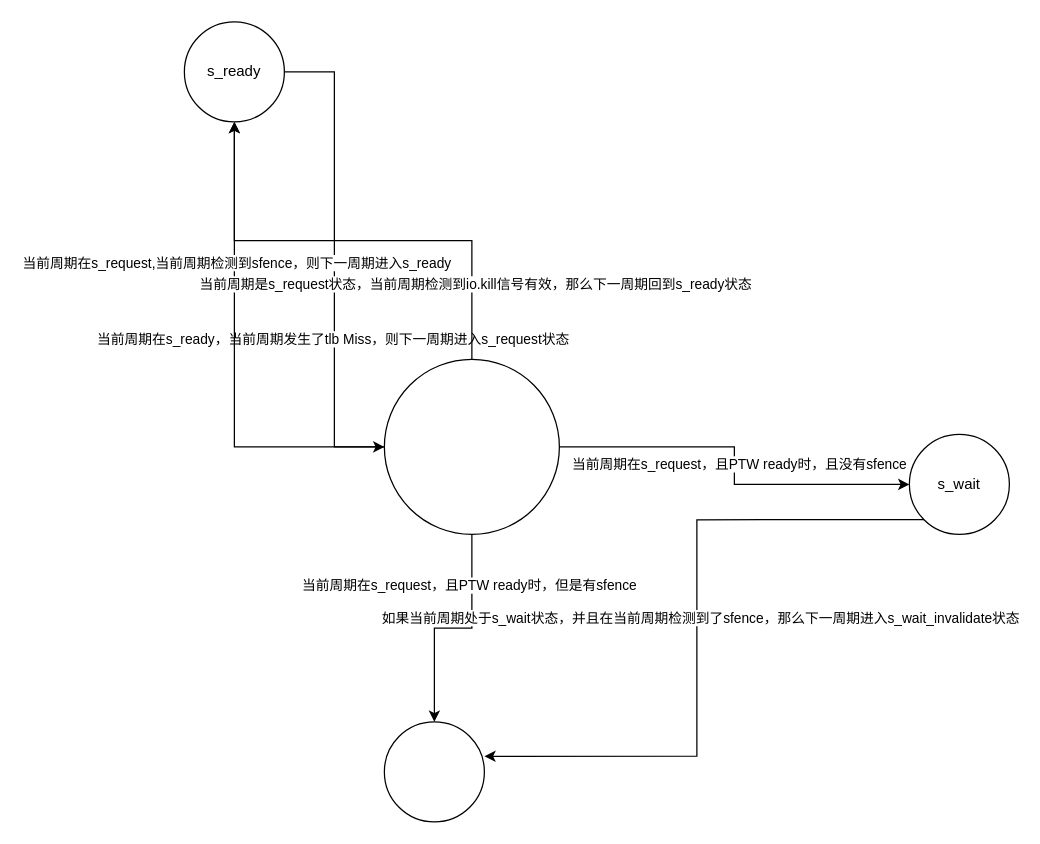
This 1040x844 diagram has some shape labels left out. Here are the shapes that lost their labels. From the top down, the centre of each, then its label:
the point at 471,446: s_request
the point at 433,771: s_wait_invalidate
